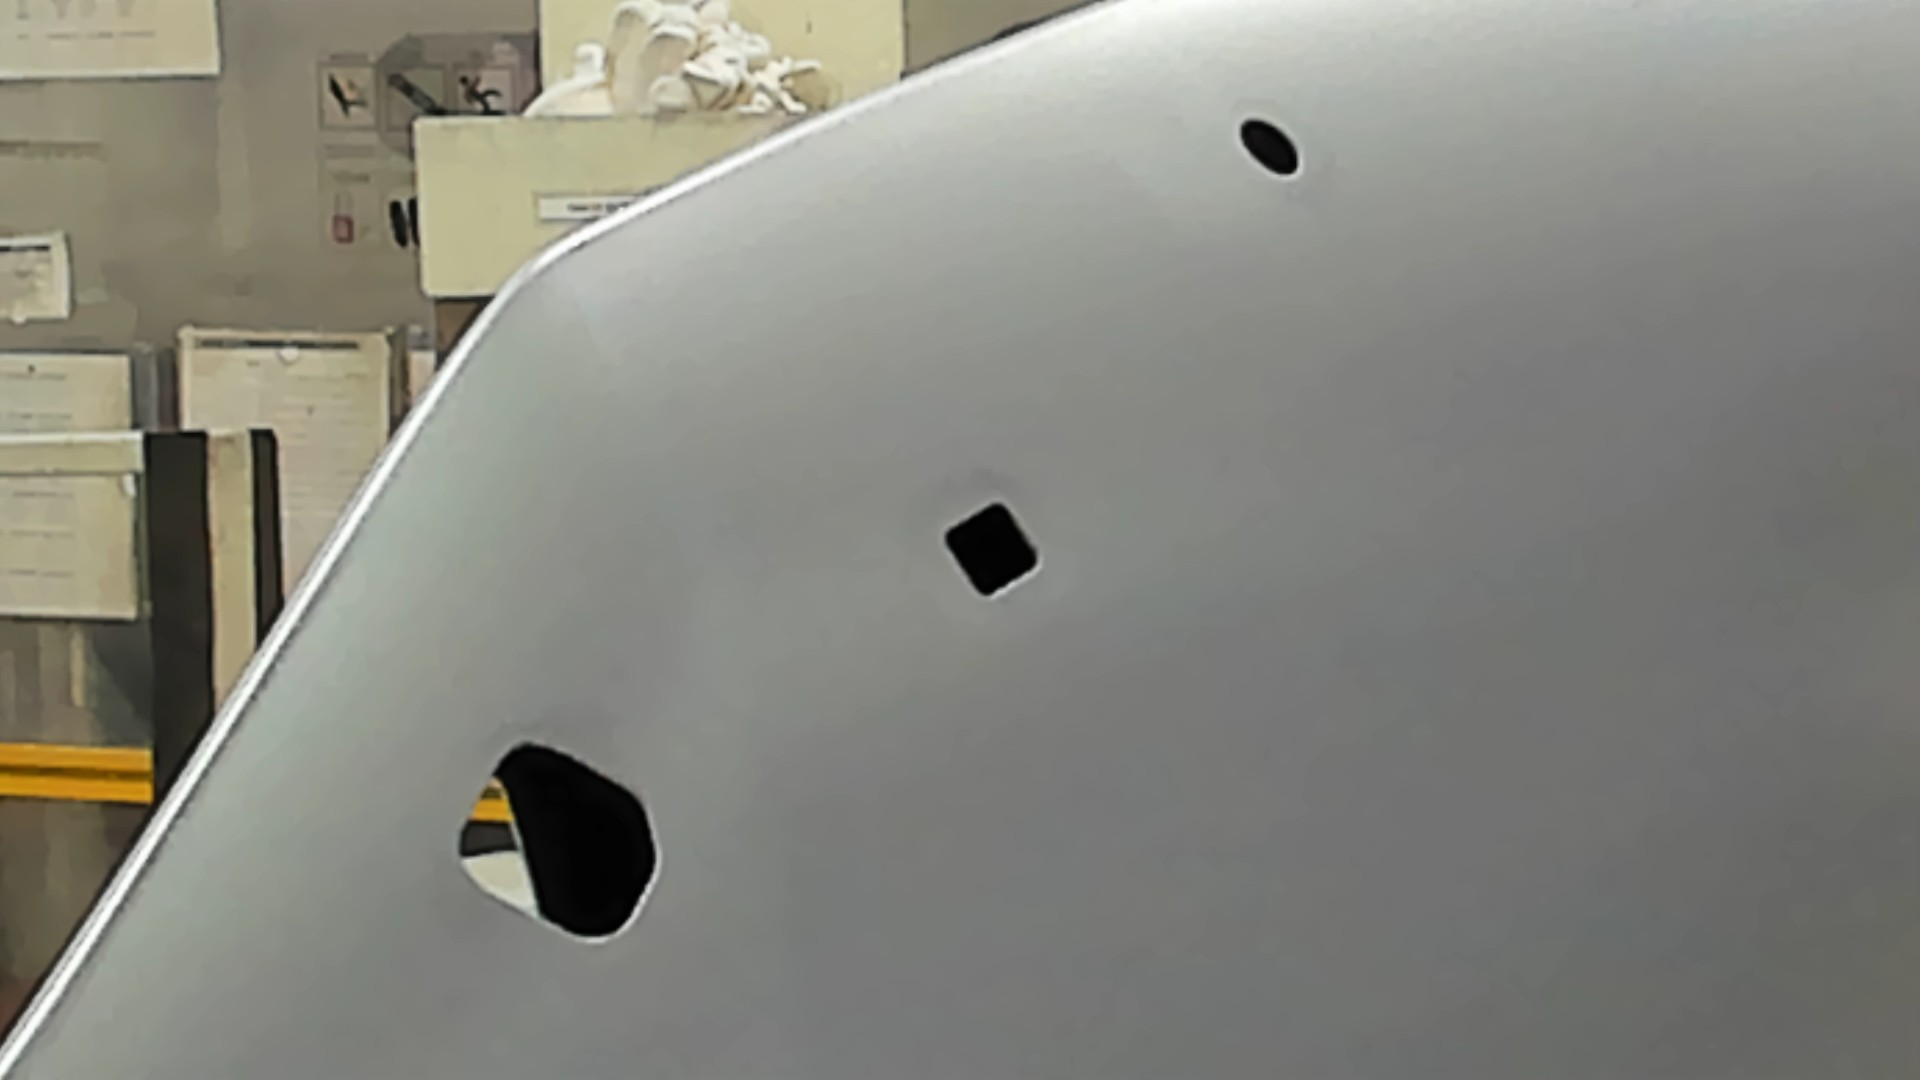chico: (1232, 109, 1309, 186)
grande: (451, 731, 669, 947)
mediano: (938, 495, 1043, 604)
